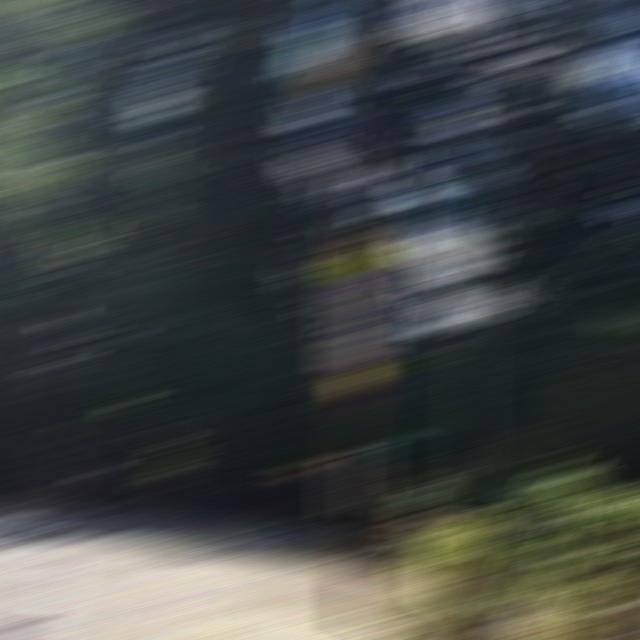speedLimit20: (324, 272, 394, 332)
